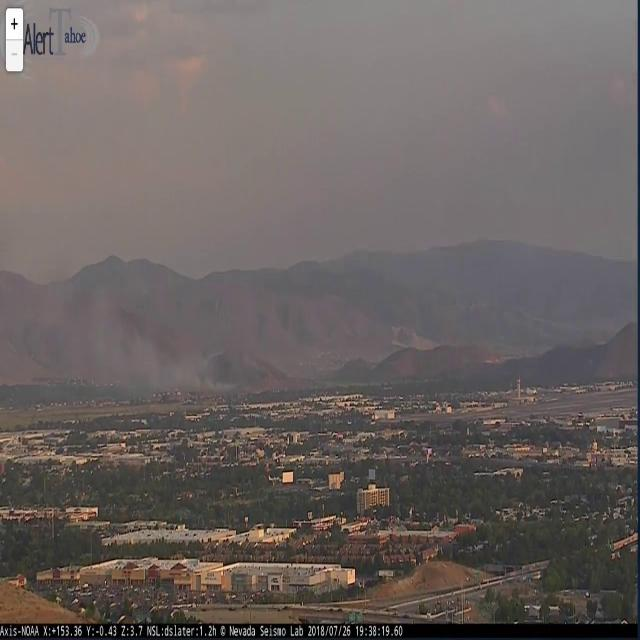smoke: (58, 271, 274, 397)
